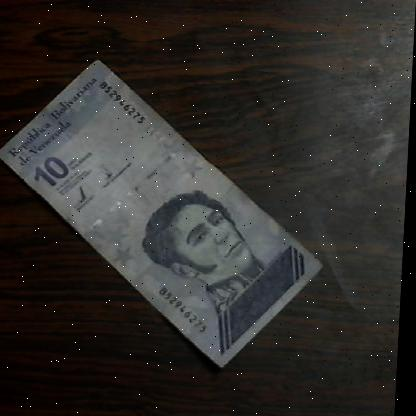ten-front-vef: (0, 57, 336, 370)
